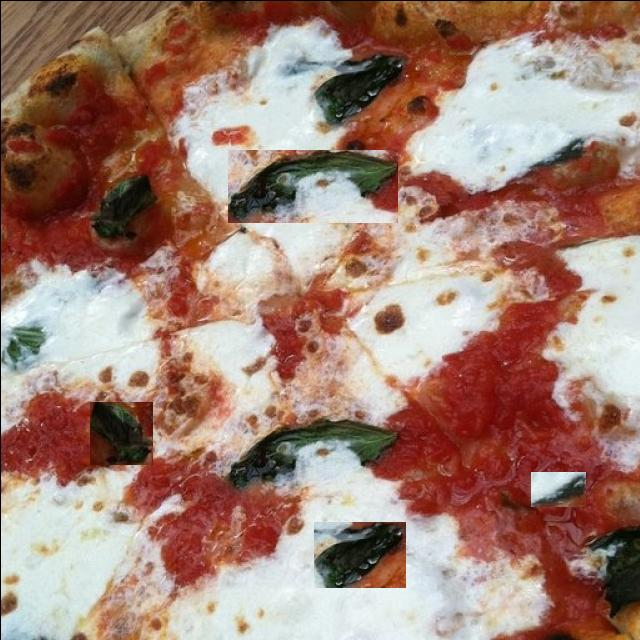basil: (227, 149, 397, 222), (313, 521, 405, 587), (594, 28, 640, 118), (89, 401, 152, 464), (528, 471, 584, 506), (264, 433, 318, 462), (5, 272, 41, 315)
pizza: (0, 0, 639, 640)
